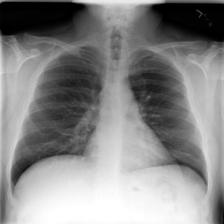normal: (5, 38, 214, 202)
